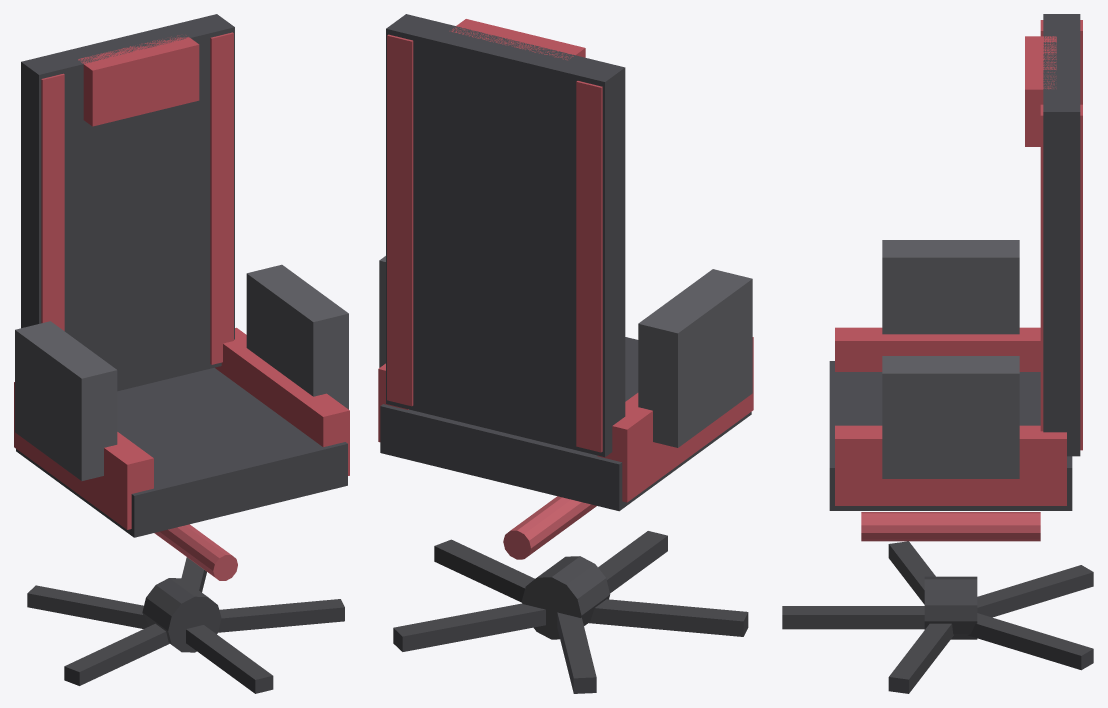
The model's file is chair_gaming_upgrade.glb.
3 renders of one model, left to right at view 1: azimuth 30°, elevation 25°; view 2: azimuth 150°, elevation 25°; view 3: azimuth 270°, elevation 25°, orthographic. The views are drawn at different scales.
Visible parts, largest first — view 1: geometry_0; view 2: geometry_0; view 3: geometry_0.
Boxes of the visible parts, x1=… form: geometry_0: x1=14, y1=14, x2=349, y2=693; geometry_0: x1=378, y1=14, x2=753, y2=693; geometry_0: x1=782, y1=14, x2=1093, y2=693.
Bounding box in the file's own units: 0.621 × 1.2 × 0.5906.
